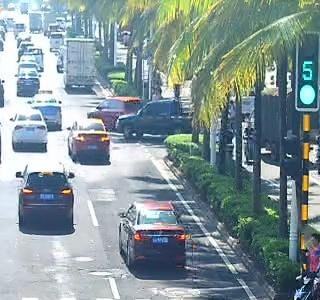greenpeople: (296, 82, 317, 106)
greentime: (298, 57, 316, 80)
